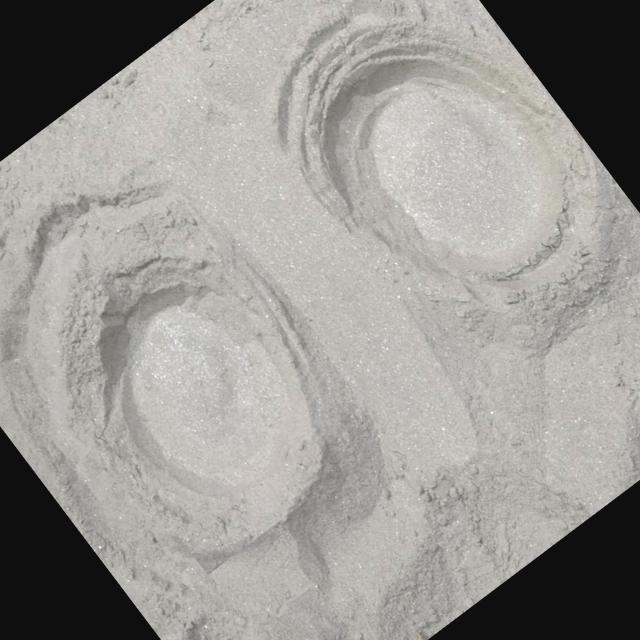C20: (278, 11, 603, 347), (63, 249, 328, 542)
